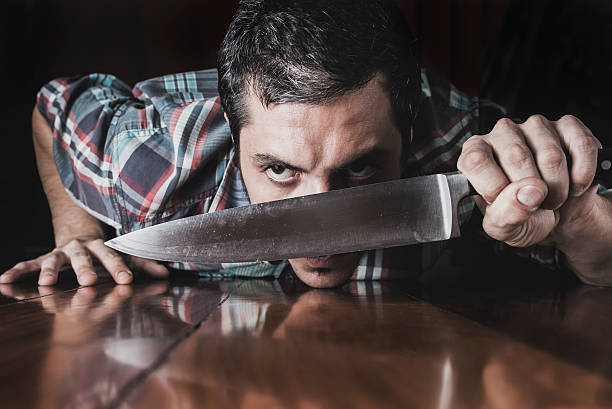knife: (100, 170, 481, 265)
